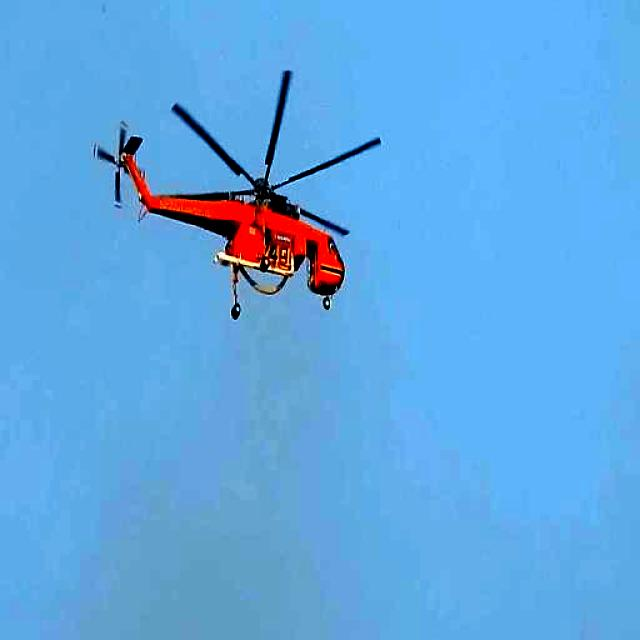drone: (78, 21, 402, 358)
